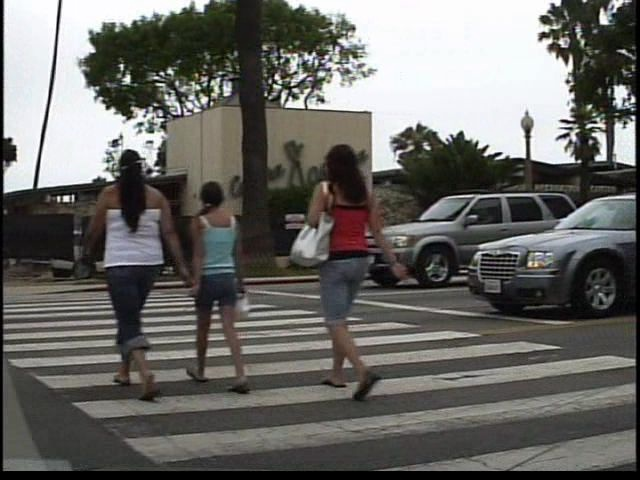person: (306, 131, 413, 399), (73, 140, 170, 402), (192, 174, 266, 399)
